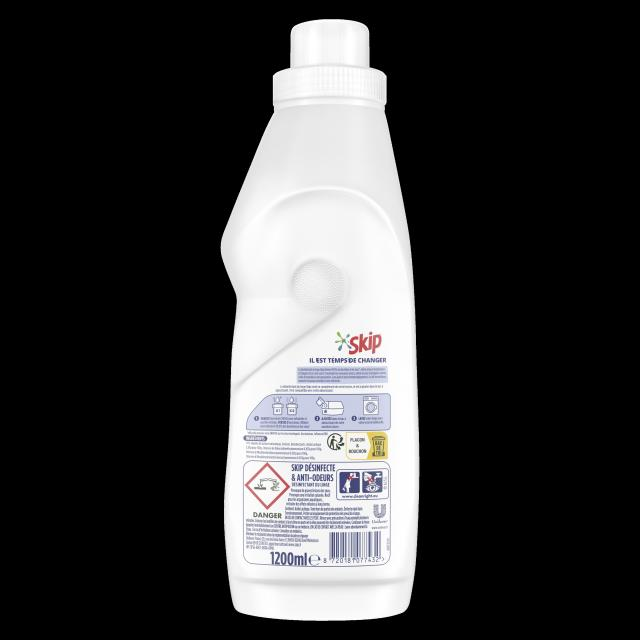GHS_Symbol_CORROSION: (244, 461, 290, 510)
